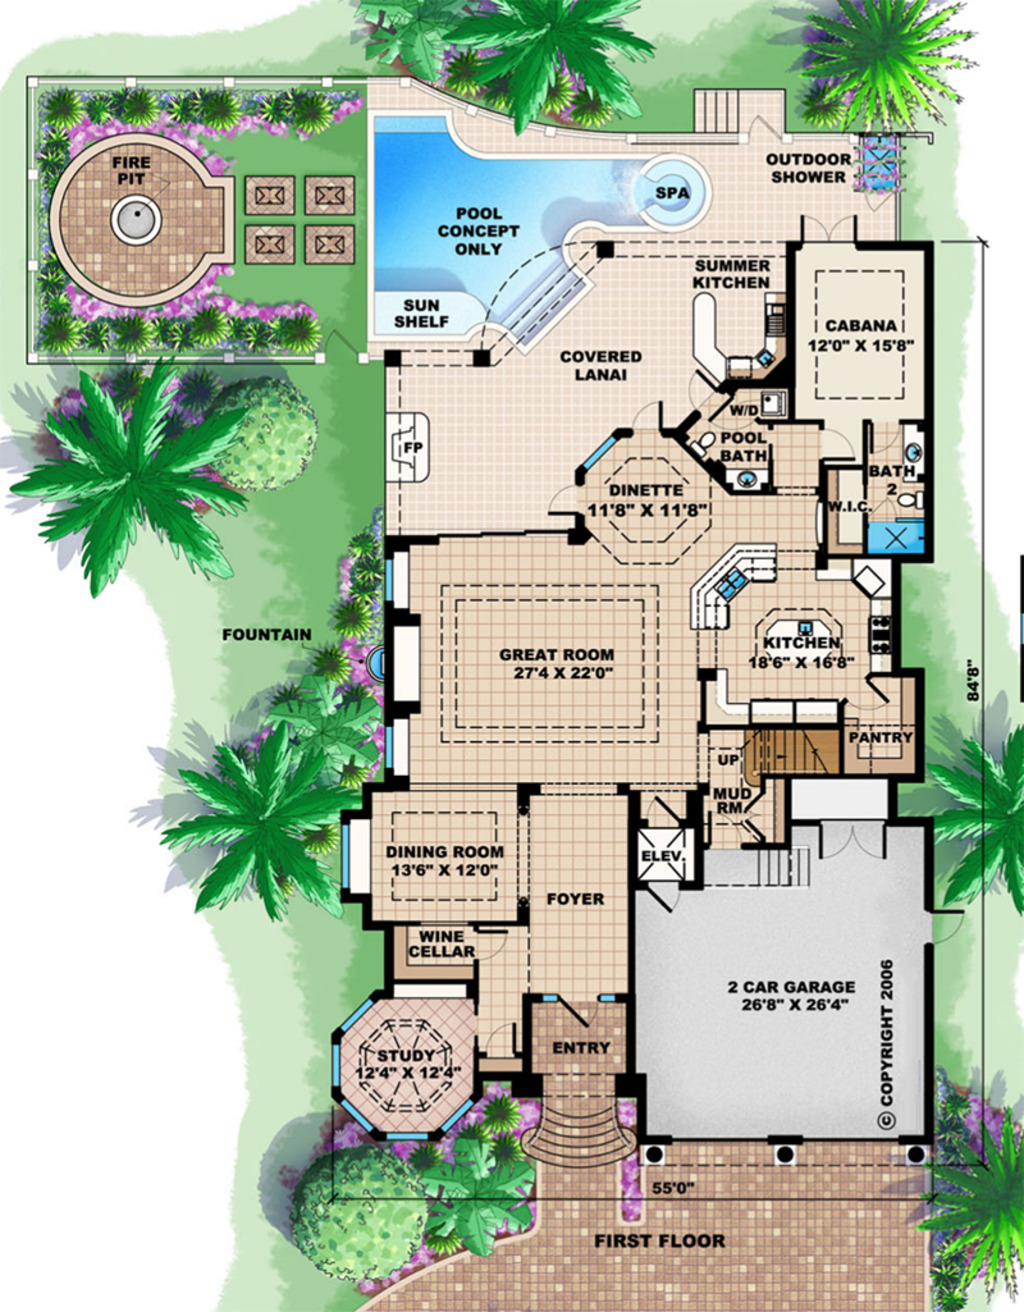door: (812, 818, 892, 860), (794, 212, 860, 244), (645, 876, 695, 918), (476, 1022, 521, 1060), (845, 676, 891, 712), (542, 483, 587, 518), (926, 908, 967, 946), (644, 794, 684, 832), (472, 929, 508, 968), (631, 397, 663, 433), (822, 430, 858, 462)
kitchen_bar: (687, 539, 778, 636)
large_sink: (895, 482, 934, 515)
stairs: (515, 1079, 640, 1172), (738, 723, 845, 782), (690, 89, 802, 137), (705, 844, 810, 890)
windows: (376, 714, 412, 778), (334, 814, 362, 898), (380, 551, 410, 616)
